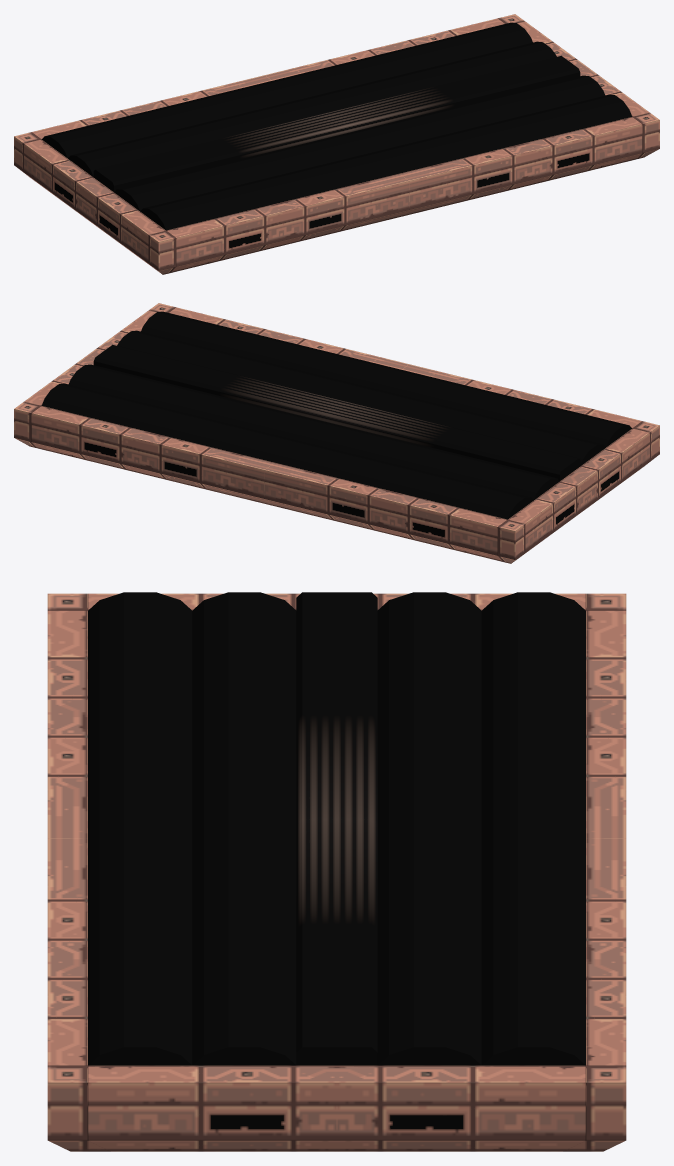
The model's file is BouncyPlatform_2x4_Stone.fbx.
3 renders of one model, top to bottom at view 1: azimuth 30°, elevation 25°; view 2: azimuth 150°, elevation 25°; view 3: azimuth 270°, elevation 25°, orthographic. The views are drawn at different scales.
Parts seen in each view (by area): view 1: BouncyPlatform_2x4_Stone; view 2: BouncyPlatform_2x4_Stone; view 3: BouncyPlatform_2x4_Stone.
Part boxes in pixels (left/top/right/bottom): BouncyPlatform_2x4_Stone: left=14, top=14, right=659, bottom=274; BouncyPlatform_2x4_Stone: left=14, top=303, right=659, bottom=563; BouncyPlatform_2x4_Stone: left=47, top=592, right=626, bottom=1151.
Bounding box in the file's own units: 100 × 9.25 × 50.
